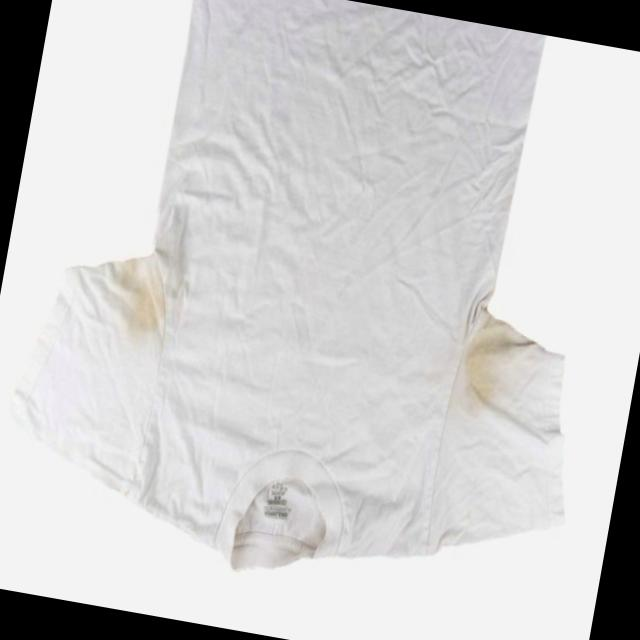stain: (102, 250, 194, 360), (448, 329, 518, 419)
